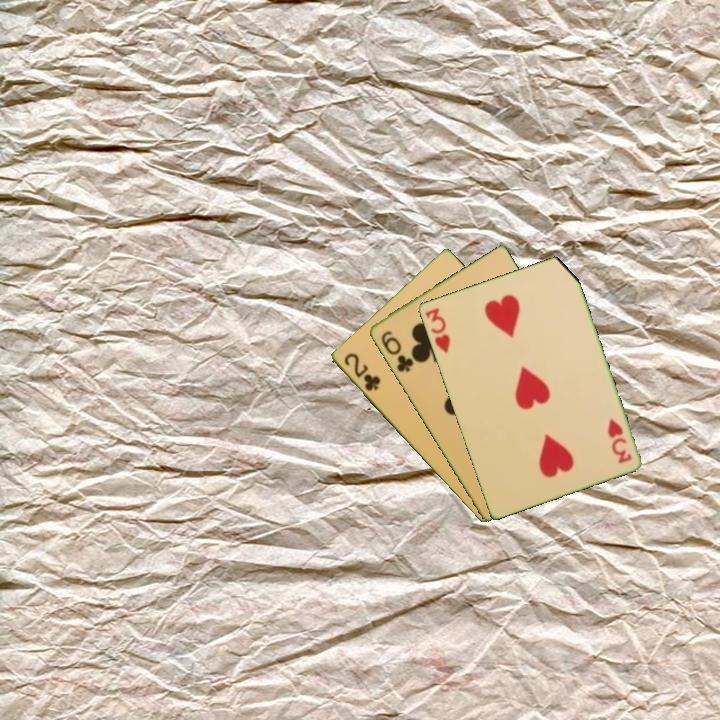2c: (340, 349, 383, 394)
3h: (422, 304, 453, 356), (604, 415, 634, 466)
6c: (377, 327, 416, 375)
